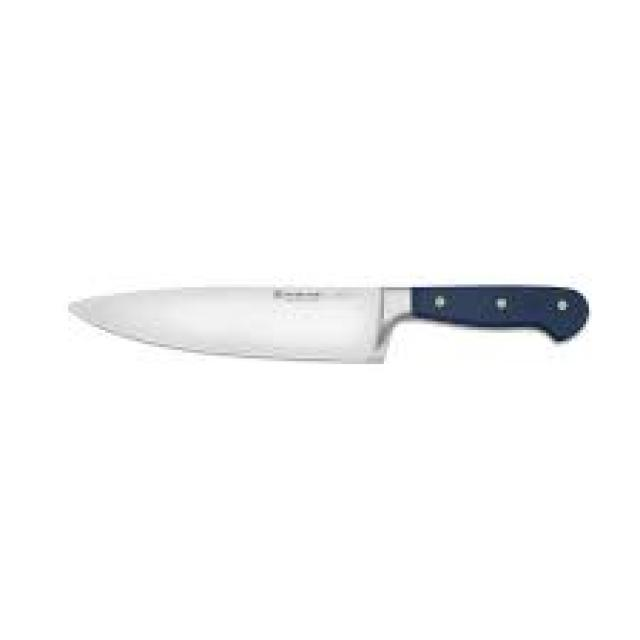Knife: (65, 282, 589, 364)
